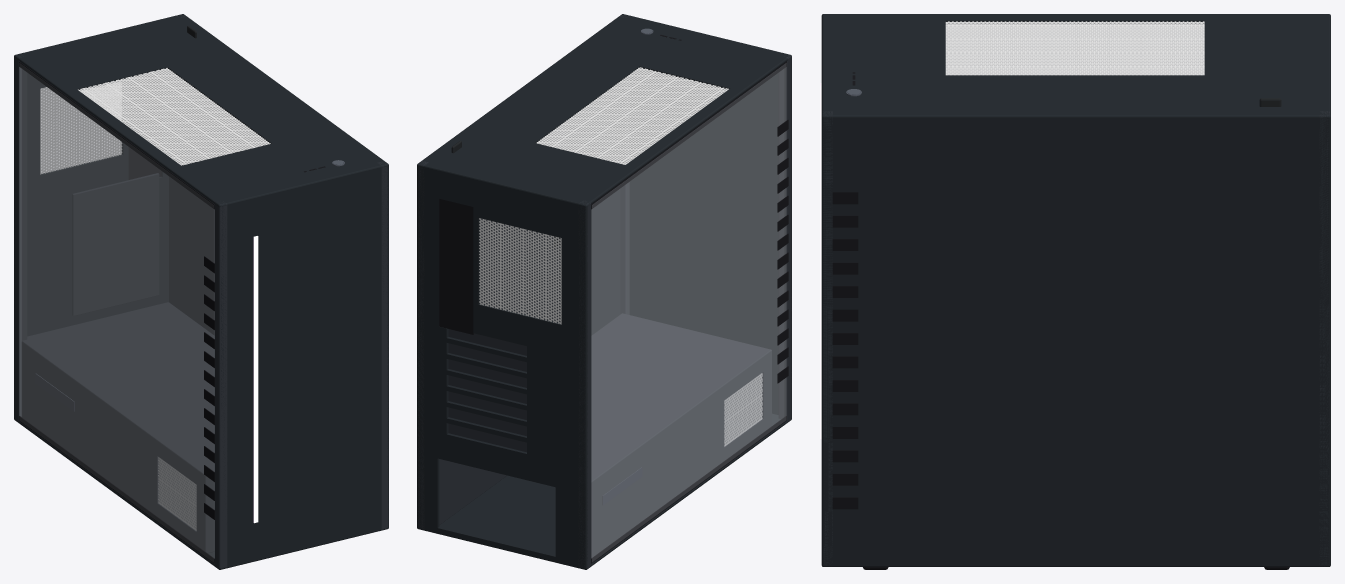
Rendered from case-bitlab-core_lod2.glb.
3 renders of one model, left to right at view 1: azimuth 30°, elevation 25°; view 2: azimuth 150°, elevation 25°; view 3: azimuth 270°, elevation 25°, orthographic. The views are drawn at different scales.
Visible parts, largest first — view 1: case_CaseSolid, glass_side, case_Perforated, case_RGB; view 2: case_CaseSolid, glass_side, case_Perforated; view 3: case_CaseSolid, case_Perforated, case_RGB.
Boxes of the visible parts, <box> form: case_CaseSolid: <box>14,14,388,569</box>; glass_side: <box>19,63,214,561</box>; case_Perforated: <box>40,67,270,530</box>; case_RGB: <box>253,236,258,523</box>; case_CaseSolid: <box>417,14,791,569</box>; glass_side: <box>591,63,786,561</box>; case_Perforated: <box>479,67,762,446</box>; case_CaseSolid: <box>821,14,1330,569</box>; case_Perforated: <box>945,21,1204,75</box>; case_RGB: <box>820,83,821,439</box>.
Bounding box in the file's own units: 0.2262 × 0.483 × 0.4735.
Materials: 4 (1 with a texture image).
